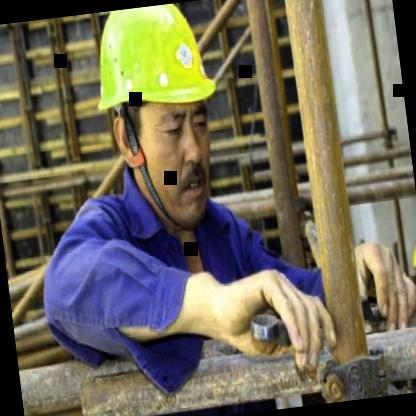helmet: (74, 0, 246, 243)
